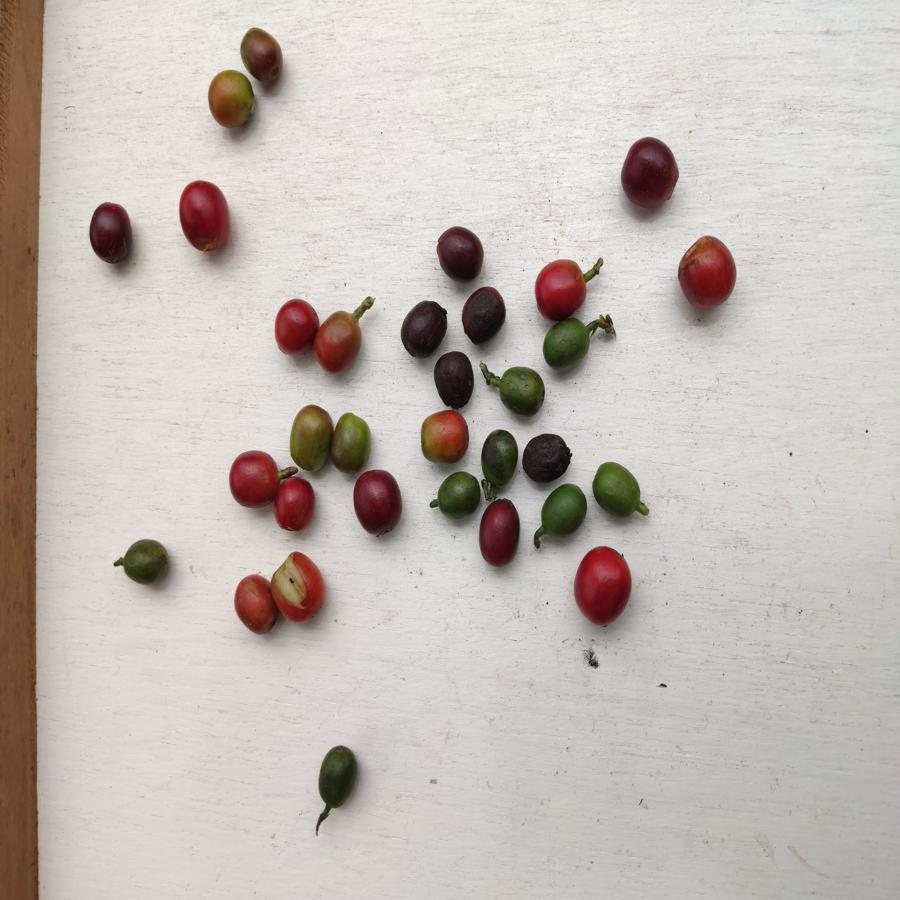Inmaduro: (315, 742, 361, 814), (592, 461, 644, 520), (497, 363, 547, 416), (544, 317, 592, 372), (541, 484, 587, 538), (120, 538, 171, 584), (480, 427, 518, 486), (437, 471, 482, 518)
Maduro: (571, 544, 633, 627), (676, 234, 744, 309), (175, 180, 233, 252), (273, 553, 327, 621), (532, 259, 589, 317), (227, 450, 280, 509), (231, 571, 278, 635), (316, 310, 361, 373), (274, 297, 315, 356), (275, 476, 316, 532)
Pinton: (209, 70, 260, 127), (288, 405, 332, 469), (418, 409, 469, 464), (240, 25, 287, 83), (332, 411, 373, 469)
Sobremaduro: (620, 135, 683, 211), (351, 469, 405, 536), (87, 199, 138, 268), (478, 497, 520, 569), (461, 284, 506, 347), (435, 224, 483, 283), (399, 300, 448, 356), (520, 432, 571, 482), (435, 352, 475, 410)
